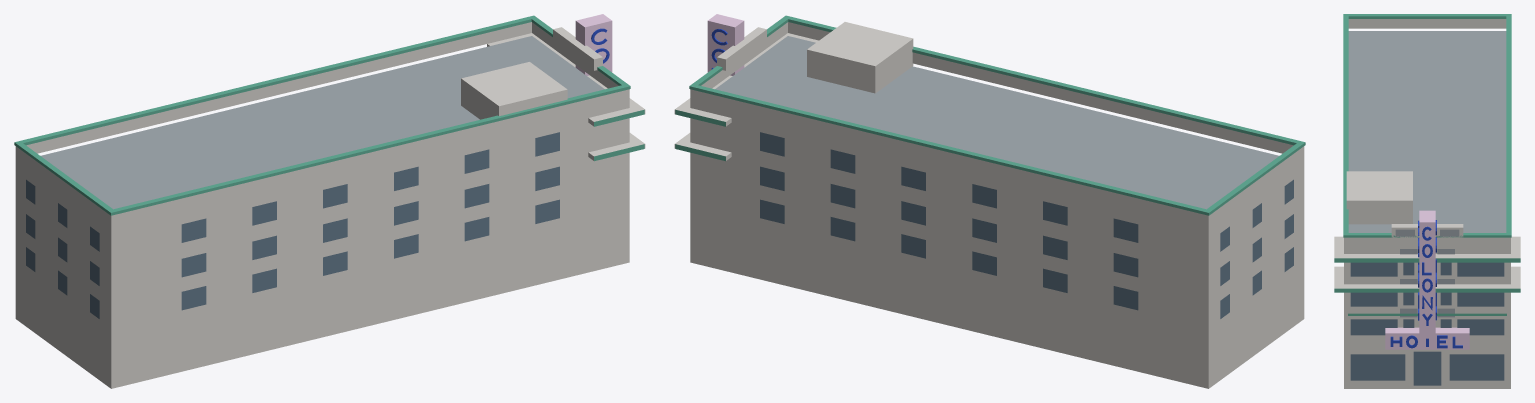
File: mia-colony-hotel.glb
3 views of the same model, side by side, from view 1: azimuth 30°, elevation 25°; view 2: azimuth 150°, elevation 25°; view 3: azimuth 270°, elevation 25° (orthographic). The views are drawn at different scales.
Parts seen in each view (by area): view 1: The Colony Hotel; view 2: The Colony Hotel; view 3: The Colony Hotel.
Boxes of the visible parts, x1,y1,x2,y2 form: The Colony Hotel: (14, 14, 645, 388); The Colony Hotel: (674, 14, 1305, 388); The Colony Hotel: (1334, 14, 1520, 388).
Size of the model in its own units: 39.85 by 14.2 by 13.52.
